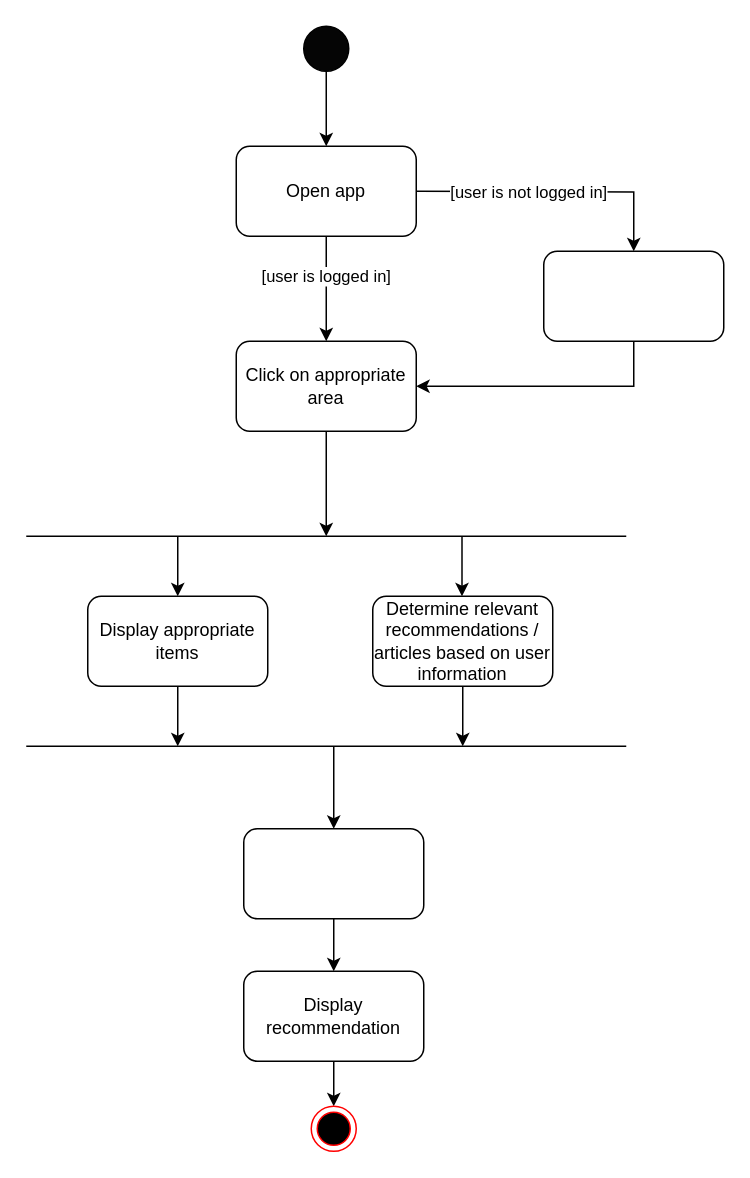
This 750x1178 diagram has some shape labels left out. Here are the shapes that lost their labels. From the top down, the centre of each, then its label:
the point at 633,295: Log into app
the point at 333,873: Click on recommendation icon
